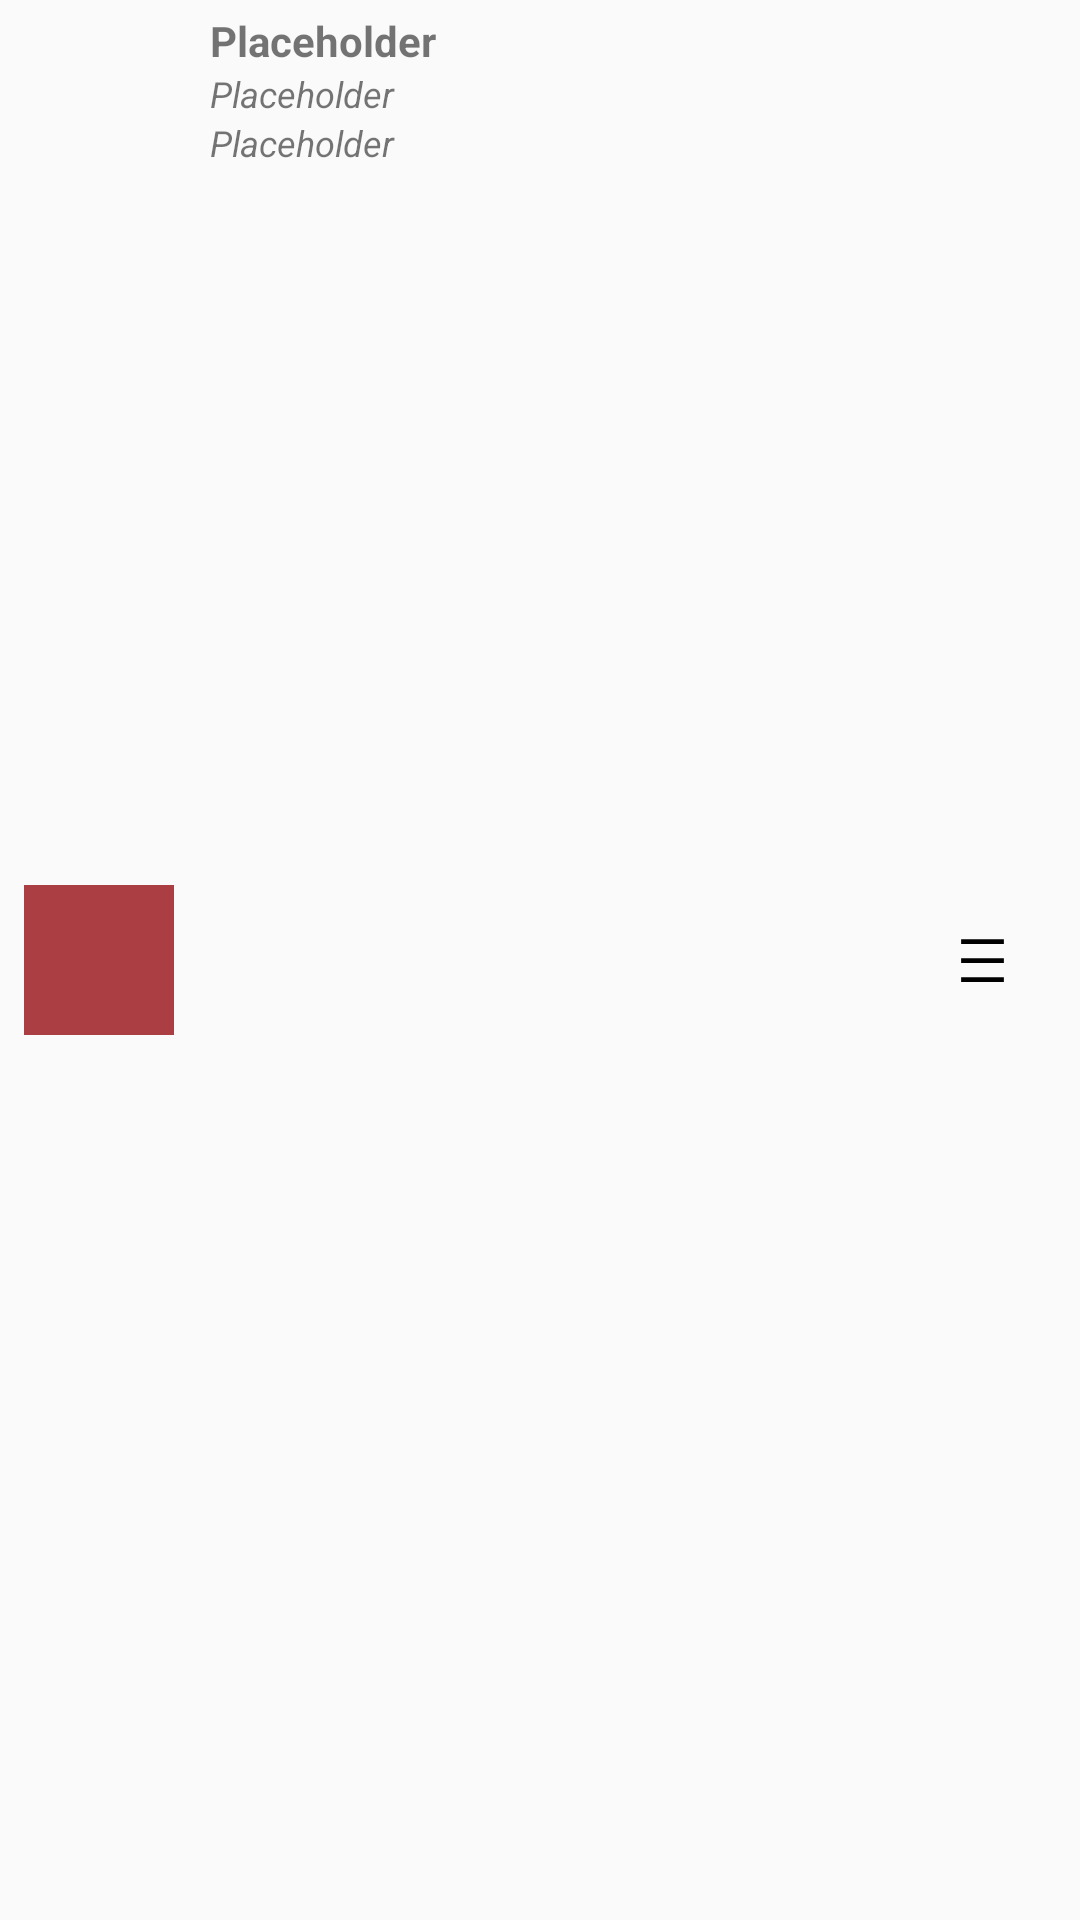

Icons on this 1080 x 1920 Android screen, each with its box as (left=x1, top=y1, right=x2, bottom=y2):
hamburger: (left=961, top=939, right=1004, bottom=982)
